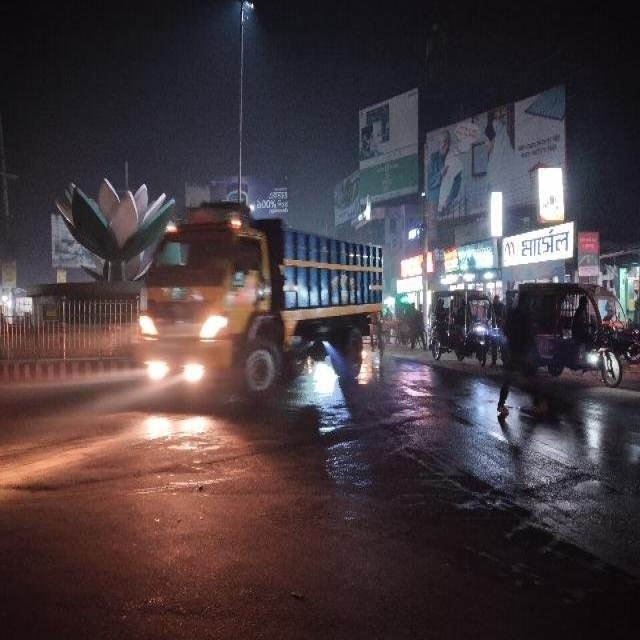auto rickshaw: (514, 276, 628, 393), (428, 289, 497, 362)
rickshaw: (392, 299, 428, 346)
truck: (146, 198, 384, 390)
